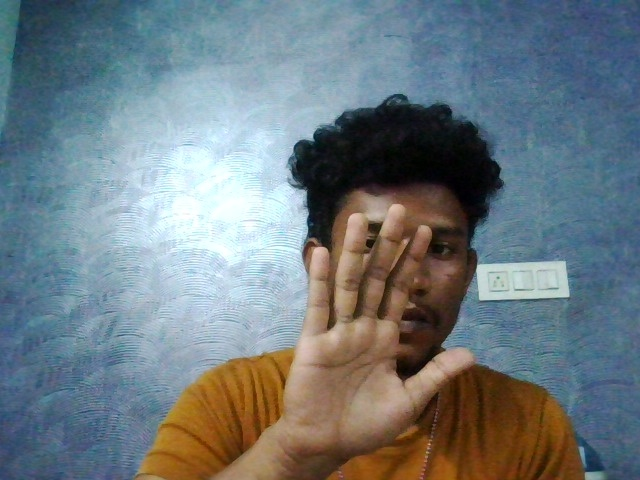hello: (261, 205, 479, 461)
